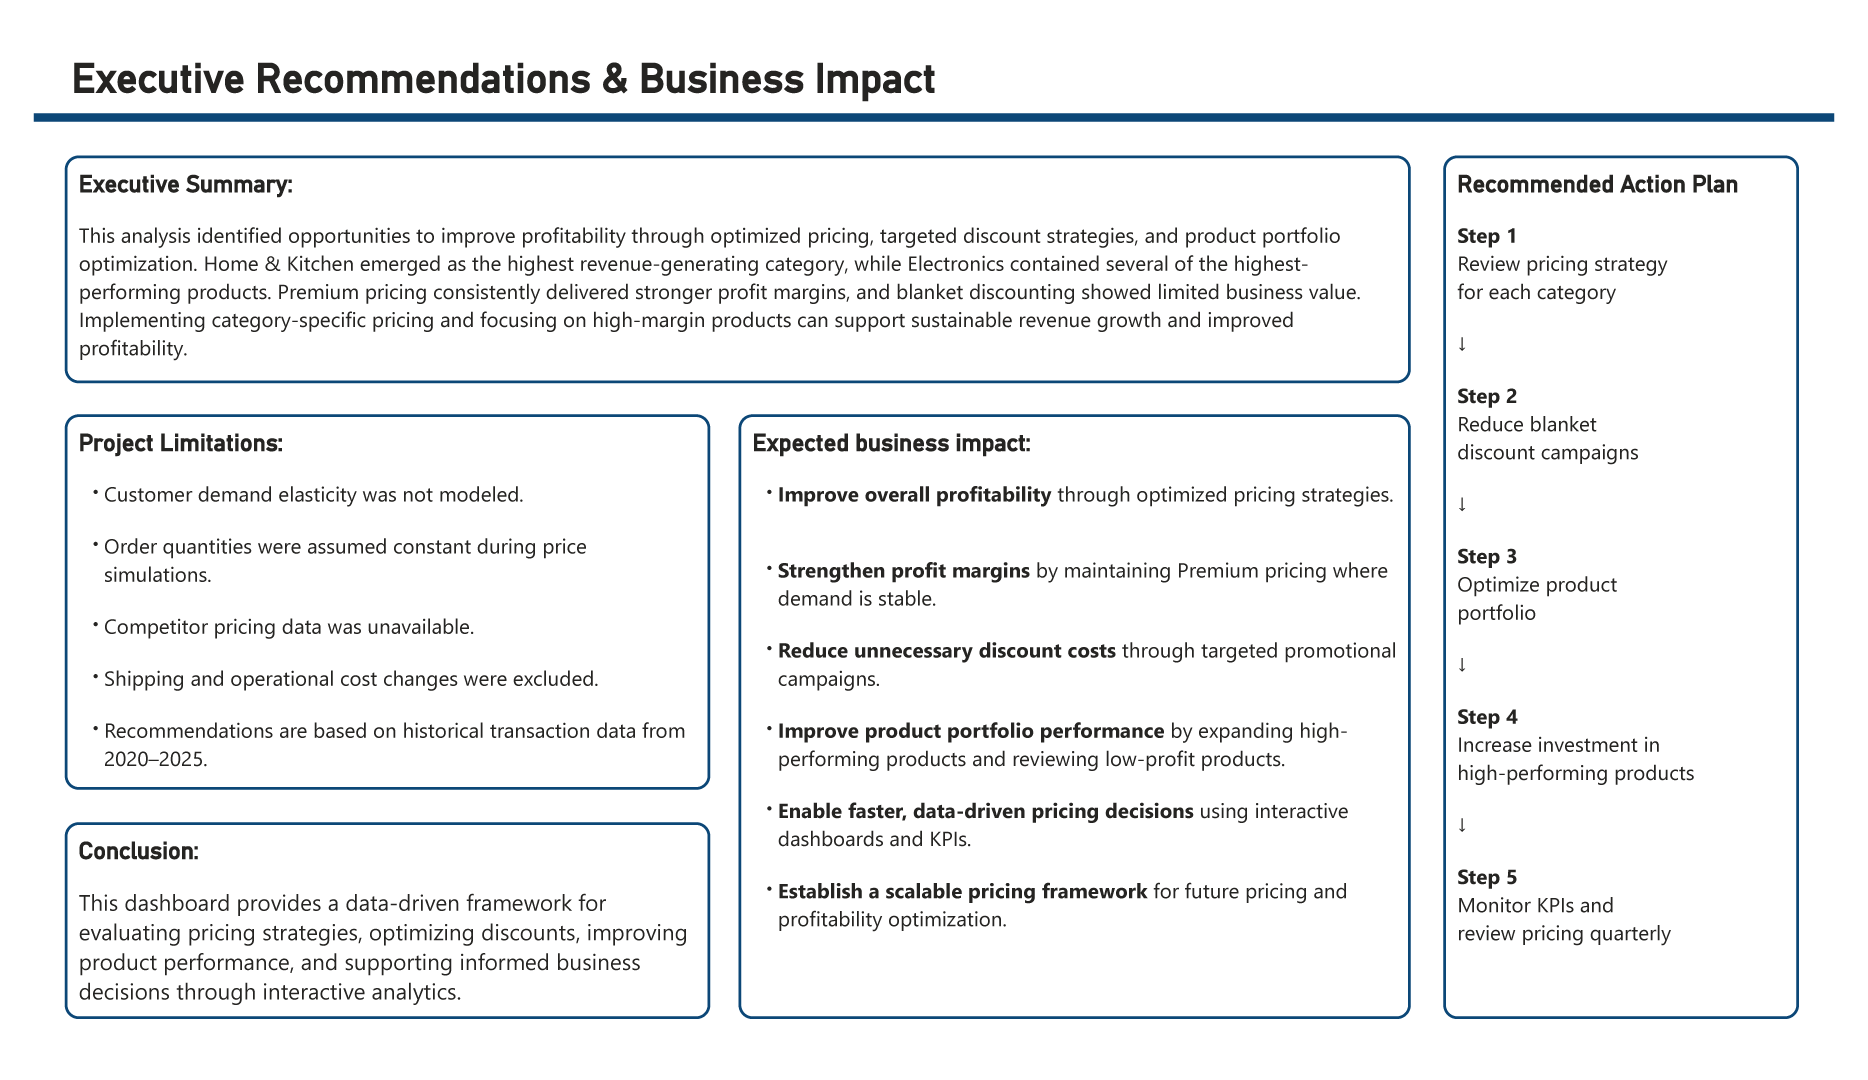

This screenshot's page, from the dashboard's own definition file:
{"tool":"powerbi","page":{"name":"7 - Executive Recommendations & Business Impact","canvas":[1280,720],"ordinal":6},"visuals":[{"type":"textbox","box":[22,9,859,50],"z":0},{"type":"shape","box":[0,46,1280,26],"z":1000},{"type":"textbox","box":[22,86,957,162],"z":2000},{"type":"textbox","box":[22,560,459,140],"z":3000},{"type":"textbox","box":[1002,86,253,614],"z":4000},{"type":"textbox","box":[22,270,459,267],"z":5000},{"type":"textbox","box":[501,270,478,430],"z":6000}]}

Visuals, with their boxes in screenshot pixels (x1, y1, x2, y2), scaled from the page's 1280x720 canvas onto the 1868x1080 screenshot:
textbox: 32, 14, 1286, 88
shape: 0, 69, 1867, 108
textbox: 32, 129, 1429, 372
textbox: 32, 840, 702, 1050
textbox: 1462, 129, 1832, 1050
textbox: 32, 405, 702, 806
textbox: 731, 405, 1429, 1050
